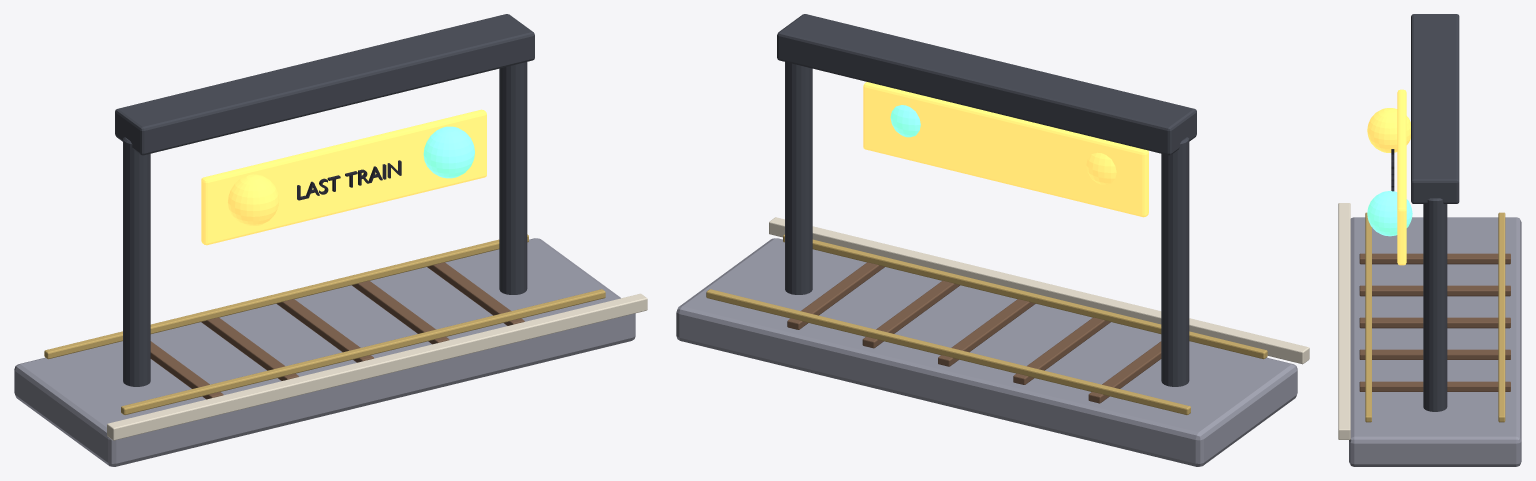
Rendered from train-station.glb.
The picture shows the model from 3 angles, left to right: view 1: azimuth 30°, elevation 25°; view 2: azimuth 150°, elevation 25°; view 3: azimuth 270°, elevation 25°; orthographic projection. The views are drawn at different scales.
Parts seen in each view (by area): view 1: wet station platform slab, station lintel iron crossbar, last train sign glass box, platform chipped front edge, station iron arch leg 0, station iron arch leg 1, right brass rail, left brass rail, right station signal globe, left station signal globe, oily wood rail tie 4, oily wood rail tie 2 (+4 smaller); view 2: wet station platform slab, station lintel iron crossbar, last train sign glass box, platform chipped front edge, station iron arch leg 0, station iron arch leg 1, left brass rail, right brass rail, oily wood rail tie 1, oily wood rail tie 2, oily wood rail tie 3, oily wood rail tie 4 (+3 smaller); view 3: wet station platform slab, station lintel iron crossbar, station iron arch leg 1, platform chipped front edge, last train sign glass box, left brass rail, right brass rail, oily wood rail tie 1, oily wood rail tie 2, right station signal globe, left station signal globe, oily wood rail tie 0 (+2 smaller).
Boxes of the visible parts, left/top/right/bottom form: wet station platform slab: left=14, top=238, right=635, bottom=466; station lintel iron crossbar: left=115, top=14, right=534, bottom=155; last train sign glass box: left=201, top=109, right=486, bottom=245; platform chipped front edge: left=107, top=293, right=647, bottom=440; station iron arch leg 0: left=123, top=137, right=150, bottom=386; station iron arch leg 1: left=499, top=62, right=527, bottom=294; right brass rail: left=121, top=289, right=605, bottom=414; left brass rail: left=44, top=234, right=528, bottom=359; right station signal globe: left=423, top=126, right=474, bottom=178; left station signal globe: left=228, top=174, right=279, bottom=225; oily wood rail tie 4: left=427, top=262, right=524, bottom=325; oily wood rail tie 2: left=276, top=299, right=373, bottom=362; wet station platform slab: left=676, top=238, right=1297, bottom=466; station lintel iron crossbar: left=777, top=14, right=1196, bottom=155; last train sign glass box: left=863, top=82, right=1148, bottom=217; platform chipped front edge: left=769, top=217, right=1309, bottom=364; station iron arch leg 0: left=1161, top=137, right=1189, bottom=386; station iron arch leg 1: left=785, top=62, right=812, bottom=294; left brass rail: left=706, top=289, right=1190, bottom=414; right brass rail: left=783, top=234, right=1267, bottom=359; oily wood rail tie 1: left=1013, top=317, right=1110, bottom=384; oily wood rail tie 2: left=938, top=299, right=1035, bottom=366; oily wood rail tie 3: left=862, top=280, right=959, bottom=348; oily wood rail tie 4: left=787, top=262, right=884, bottom=329; wet station platform slab: left=1349, top=217, right=1521, bottom=466; station lintel iron crossbar: left=1411, top=14, right=1459, bottom=203; station iron arch leg 1: left=1423, top=198, right=1447, bottom=411; platform chipped front edge: left=1338, top=203, right=1350, bottom=439; last train sign glass box: left=1397, top=89, right=1406, bottom=265; left brass rail: left=1498, top=212, right=1505, bottom=422; right brass rail: left=1365, top=212, right=1371, bottom=422; oily wood rail tie 1: left=1359, top=285, right=1510, bottom=296; oily wood rail tie 2: left=1359, top=317, right=1510, bottom=328; right station signal globe: left=1367, top=191, right=1412, bottom=236; left station signal globe: left=1367, top=108, right=1410, bottom=152; oily wood rail tie 0: left=1359, top=253, right=1510, bottom=264.
Size of the model in its own units: 3.55 by 1.9 by 1.21.
